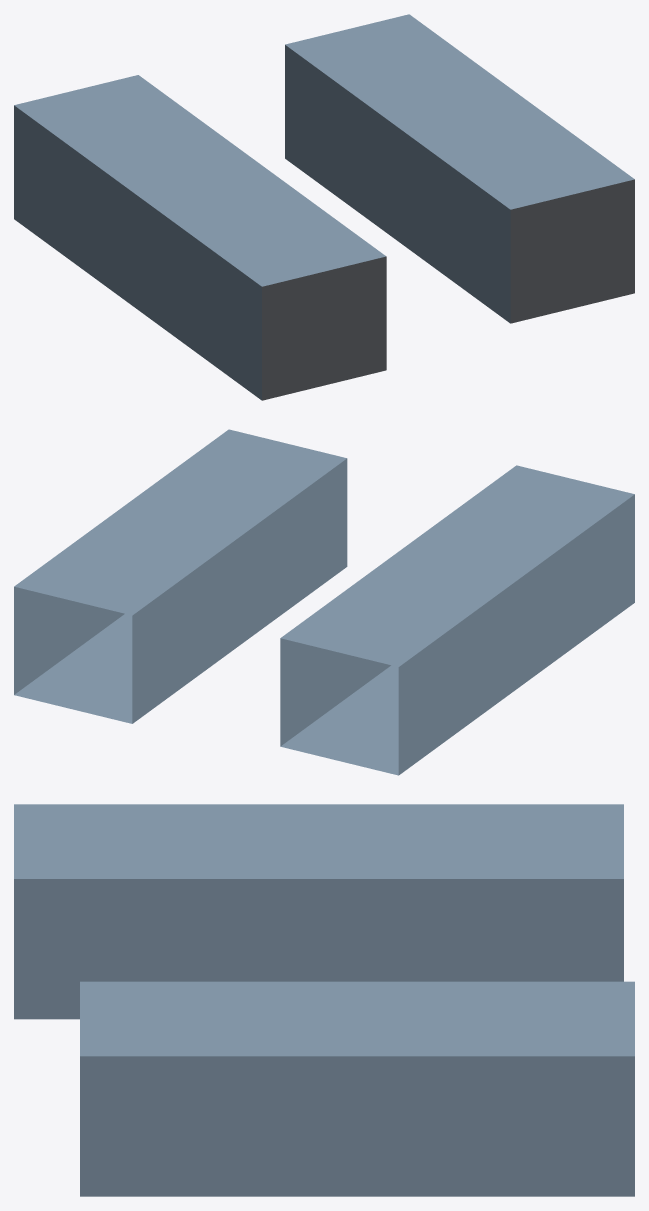
The model's file is island_bldg_14_10.obj.
3 renders of one model, top to bottom at view 1: azimuth 30°, elevation 25°; view 2: azimuth 150°, elevation 25°; view 3: azimuth 270°, elevation 25°, orthographic. The views are drawn at different scales.
Visible parts, largest first — view 1: island_bldg_14_10; view 2: island_bldg_14_10; view 3: island_bldg_14_10.
Part boxes in pixels (x1=…): island_bldg_14_10: x1=14, y1=14, x2=634, y2=400; island_bldg_14_10: x1=14, y1=429, x2=634, y2=775; island_bldg_14_10: x1=14, y1=804, x2=634, y2=1196.
Bounding box in the file's own units: 103 × 30.4 × 112.
